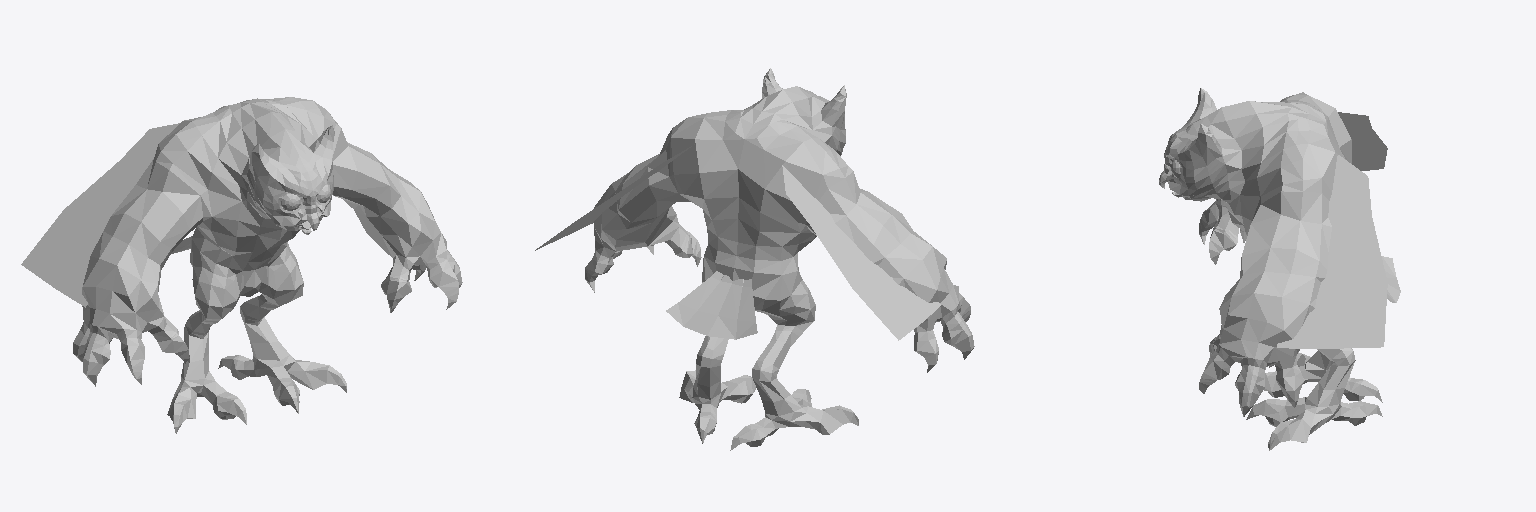
Rendered from owlbear.obj.
3 views of the same model, side by side, from view 1: azimuth 30°, elevation 25°; view 2: azimuth 150°, elevation 25°; view 3: azimuth 270°, elevation 25° (orthographic).
Parts seen in each view (by area): view 1: Body_lambert1_0, Wings_lambert1_0; view 2: Body_lambert1_0, Wings_lambert1_0; view 3: Body_lambert1_0, Wings_lambert1_0.
Boxes of the visible parts, <box> form: Body_lambert1_0: <box>73,97,462,433</box>; Wings_lambert1_0: <box>21,123,191,307</box>; Body_lambert1_0: <box>585,68,974,450</box>; Wings_lambert1_0: <box>535,144,940,340</box>; Body_lambert1_0: <box>1159,88,1382,450</box>; Wings_lambert1_0: <box>1277,112,1400,348</box>.
Bounding box in the file's own units: 11.79 × 9.24 × 6.52.